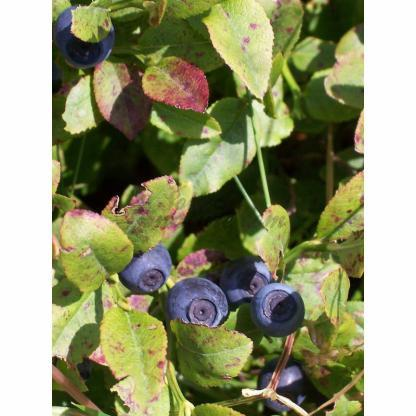Blueberry leaf: (178, 91, 260, 204), (97, 303, 171, 413), (200, 2, 279, 104), (54, 206, 126, 296), (164, 318, 254, 388), (106, 172, 180, 254), (93, 52, 155, 140), (138, 52, 210, 116), (314, 167, 364, 250)
